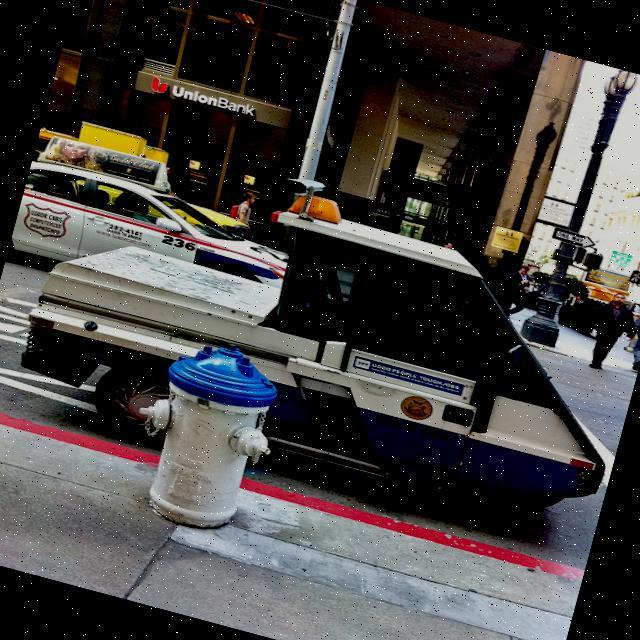fire_hydrant: (111, 322, 296, 542)
